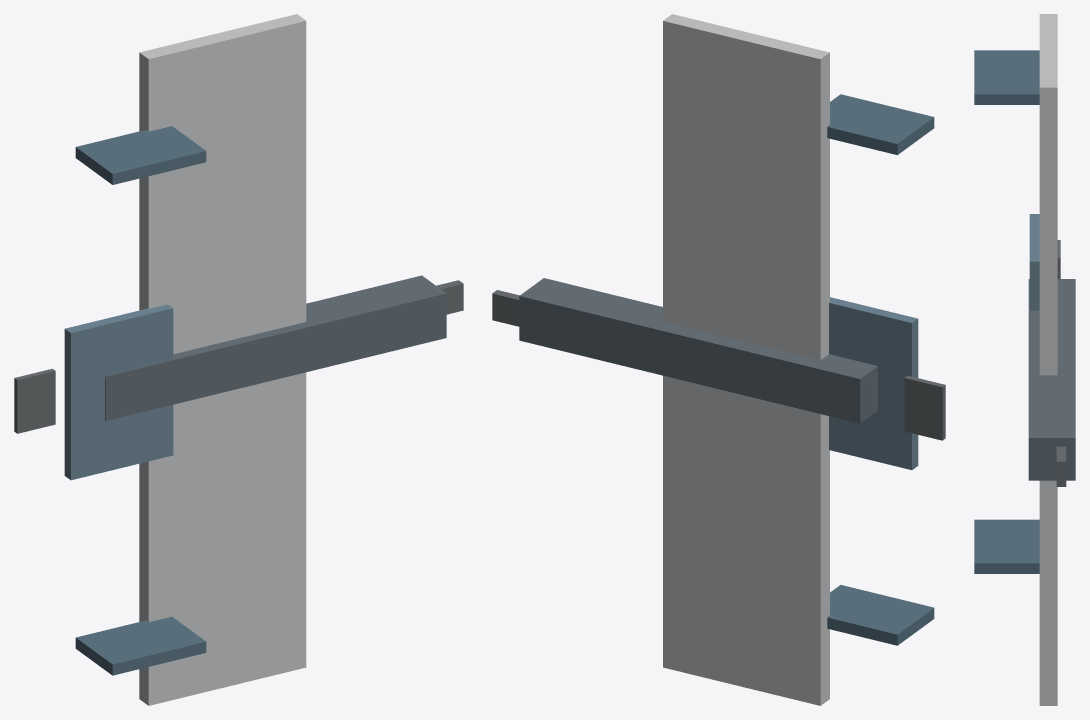
Rendered from fixedwing.glb.
3 views of the same model, side by side, from view 1: azimuth 30°, elevation 25°; view 2: azimuth 150°, elevation 25°; view 3: azimuth 270°, elevation 25° (orthographic). The views are drawn at different scales.
Visible parts, largest first — view 1: fixedwing_1, fixedwing_0, fixedwing_2, fixedwing_3, fixedwing_4, fixedwing_6; view 2: fixedwing_1, fixedwing_0, fixedwing_2, fixedwing_3, fixedwing_4, fixedwing_6, fixedwing_5; view 3: fixedwing_1, fixedwing_0, fixedwing_3, fixedwing_4, fixedwing_2, fixedwing_5.
Part boxes in pixels (x1,y1,x2,y2): fixedwing_1: (139, 14, 306, 705); fixedwing_0: (105, 275, 446, 420); fixedwing_2: (64, 304, 173, 480); fixedwing_3: (75, 616, 206, 675); fixedwing_4: (75, 126, 206, 184); fixedwing_6: (14, 368, 55, 433); fixedwing_1: (663, 14, 829, 705); fixedwing_0: (519, 278, 877, 423); fixedwing_2: (829, 297, 918, 469); fixedwing_3: (827, 585, 934, 645); fixedwing_4: (827, 94, 934, 154); fixedwing_6: (904, 375, 945, 440); fixedwing_5: (492, 290, 519, 326); fixedwing_1: (1039, 14, 1057, 705); fixedwing_0: (1028, 279, 1075, 480); fixedwing_3: (974, 519, 1039, 573); fixedwing_4: (974, 50, 1039, 104); fixedwing_2: (1029, 214, 1039, 310); fixedwing_5: (1056, 446, 1066, 486).
Bounding box in the file's own units: 1.05 × 1.45 × 0.215.
